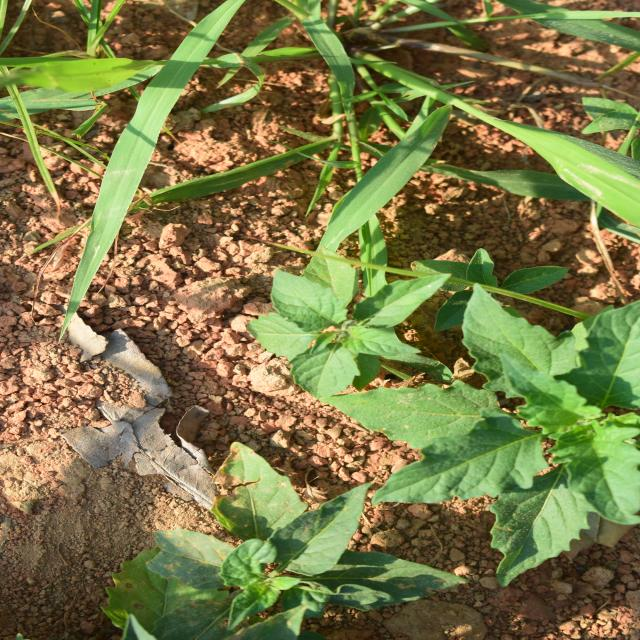Black_nightshade: (57, 392, 330, 630), (0, 157, 161, 422), (230, 241, 399, 453)
